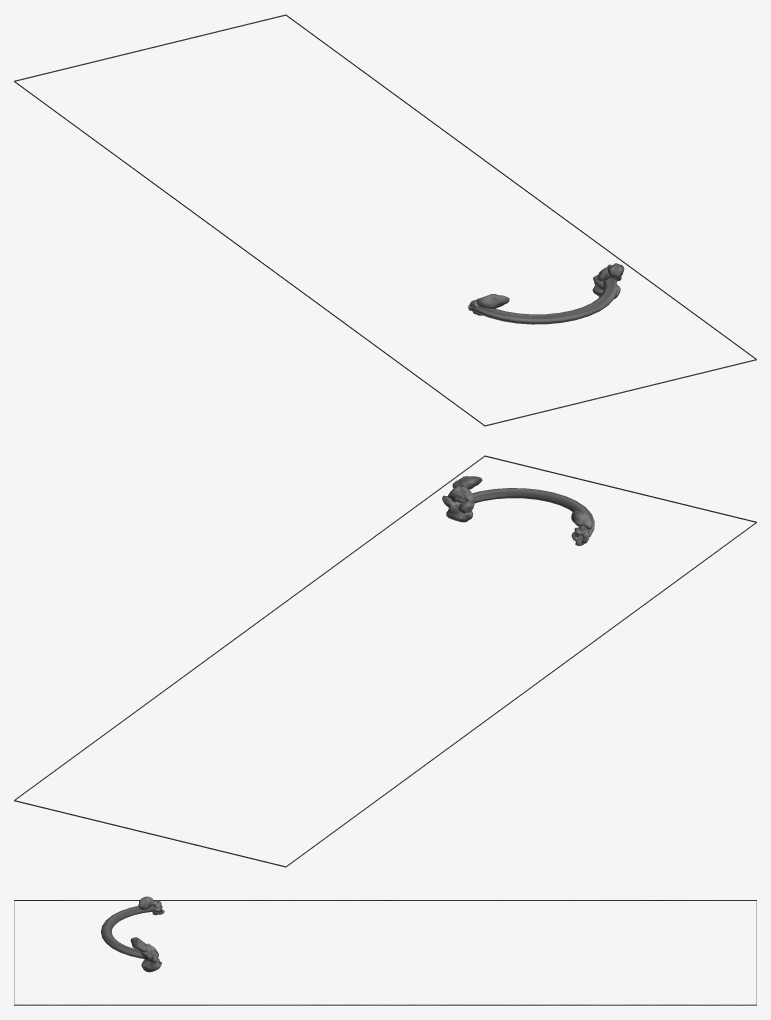
The picture shows the model from 3 angles, top to bottom: view 1: azimuth 30°, elevation 25°; view 2: azimuth 150°, elevation 25°; view 3: azimuth 270°, elevation 25°; orthographic projection. The views are drawn at different scales.
Parts seen in each view (by area): view 1: Tunnel2, MeshInstance3D3, MeshInstance3D4; view 2: Tunnel2, MeshInstance3D3, MeshInstance3D4; view 3: MeshInstance3D3, Tunnel2, MeshInstance3D4.
Part boxes in pixels (box(x1,y1,x2,y2)): Tunnel2: box(471, 277, 617, 324); MeshInstance3D3: box(286, 14, 756, 359); MeshInstance3D4: box(14, 81, 484, 425); Tunnel2: box(455, 488, 594, 539); MeshInstance3D3: box(14, 455, 484, 800); MeshInstance3D4: box(286, 522, 756, 866); MeshInstance3D3: box(14, 1004, 756, 1005); Tunnel2: box(101, 905, 154, 958); MeshInstance3D4: box(14, 900, 756, 900).
Size of the model in its own units: 1025 by 192 by 3073.
Materials: 5 (2 with a texture image).
